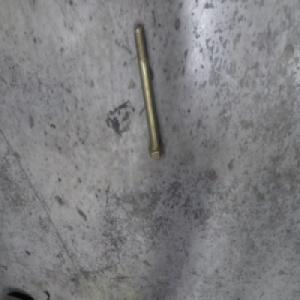Bolt: (132, 32, 166, 168)
